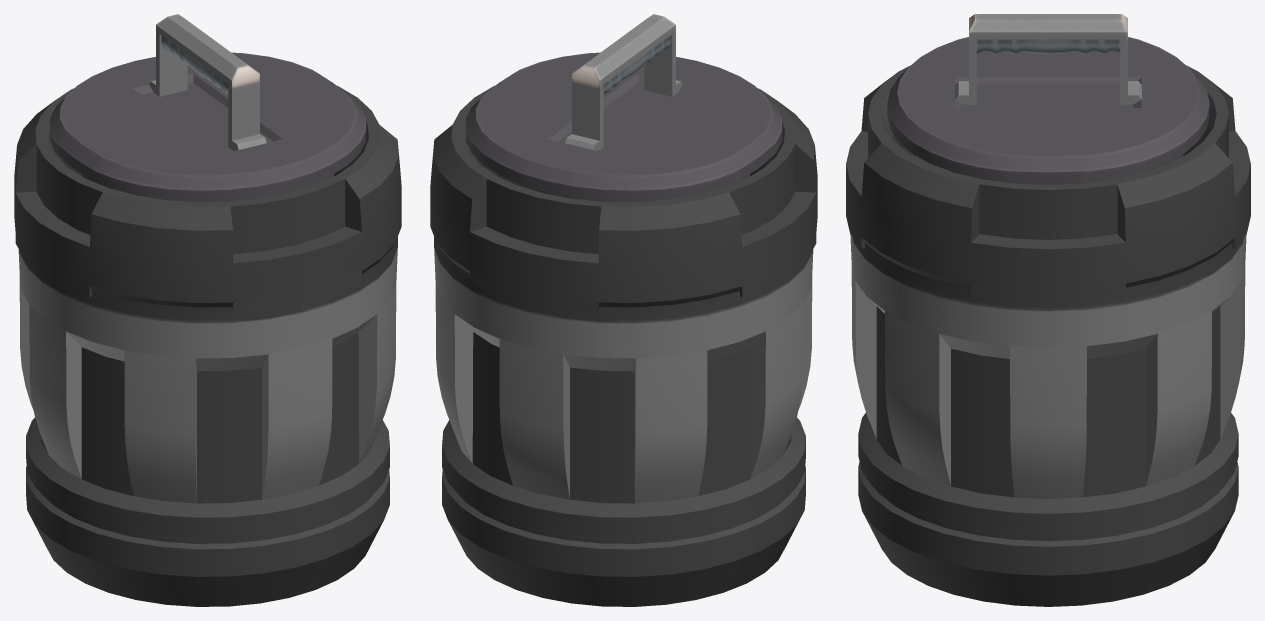
The model's file is barrel.glb.
The picture shows the model from 3 angles, left to right: view 1: azimuth 30°, elevation 25°; view 2: azimuth 150°, elevation 25°; view 3: azimuth 270°, elevation 25°; orthographic projection. The views are drawn at different scales.
Parts seen in each view (by area): view 1: Prop_Barrel2_Closed; view 2: Prop_Barrel2_Closed; view 3: Prop_Barrel2_Closed.
Part boxes in pixels (x1,y1,x2,y2): Prop_Barrel2_Closed: (14, 14, 401, 606); Prop_Barrel2_Closed: (430, 14, 817, 606); Prop_Barrel2_Closed: (846, 14, 1250, 606).
Bounding box in the file's own units: 0.5422 × 0.7661 × 0.5422.
1 material, 1 textured.
